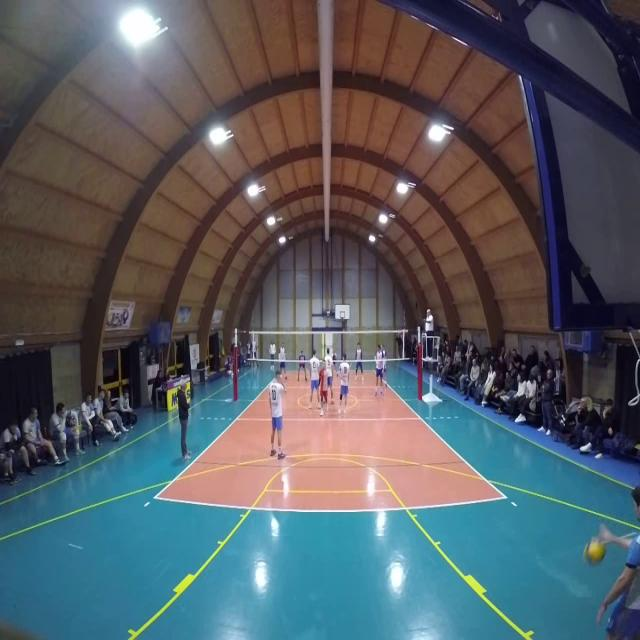Volleyball: (584, 536, 608, 570)
